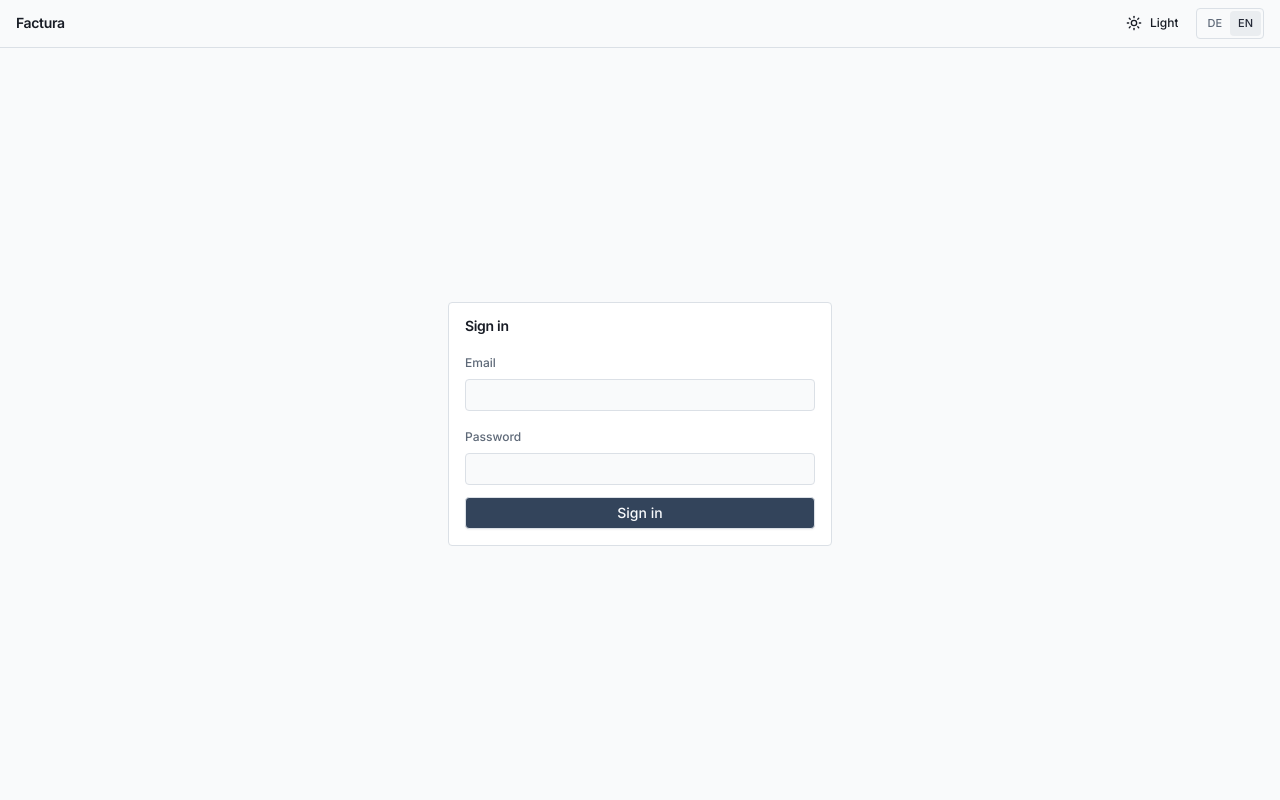
Test case: LoginPage › MFA step: 6-digit input, recovery toggle, 429 countdown
Type "a@b.c" into the field labelled "Email" at (640, 395), box [465,379,815,411]
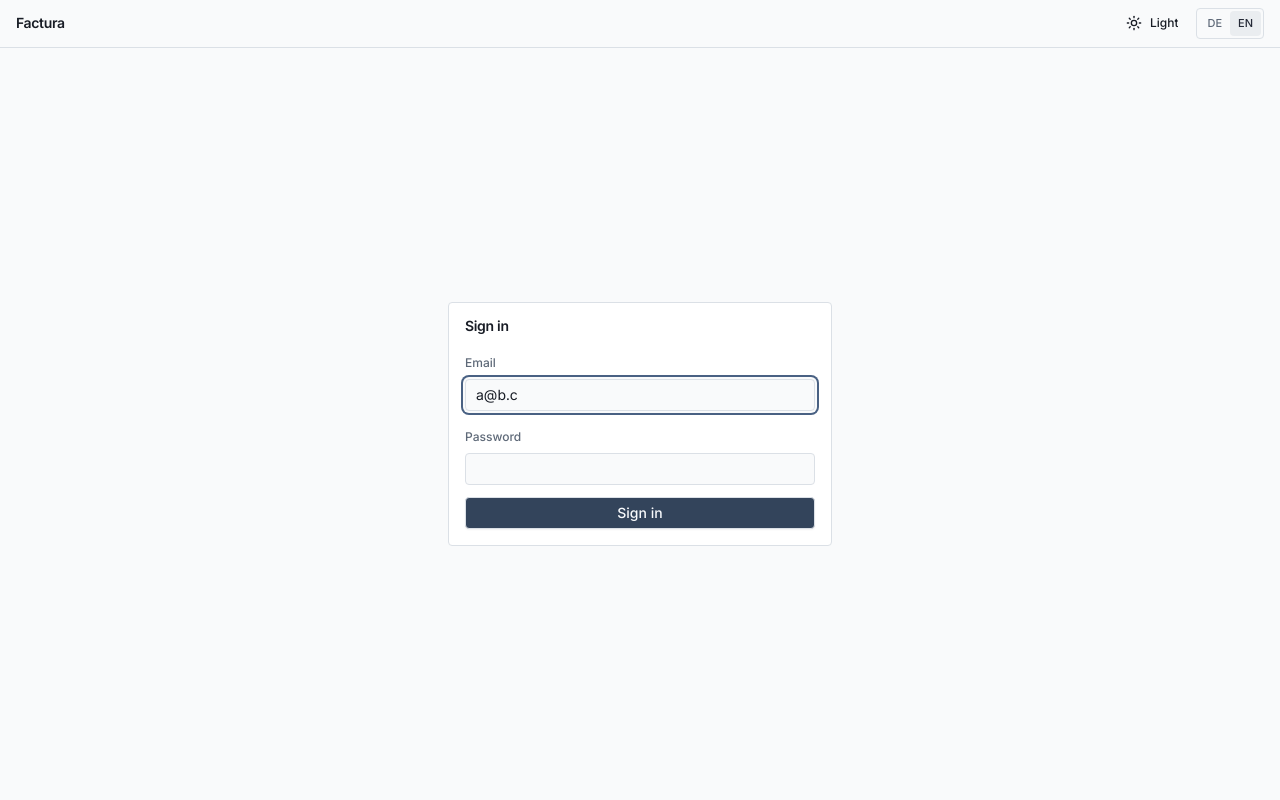
Type "password12" into the password field labelled "Password" at (640, 469), box [465,453,815,485]
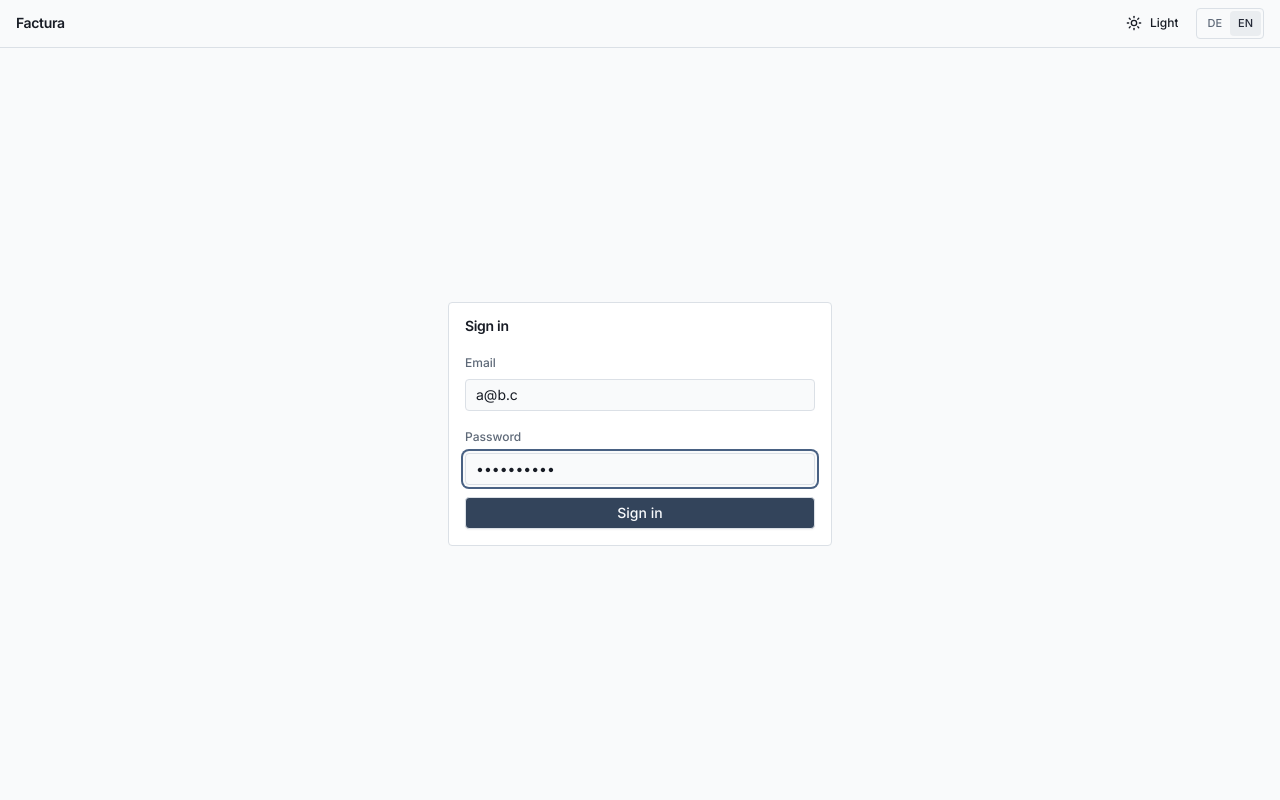
Click the button "Sign in" at (640, 513), box [465,497,815,529]
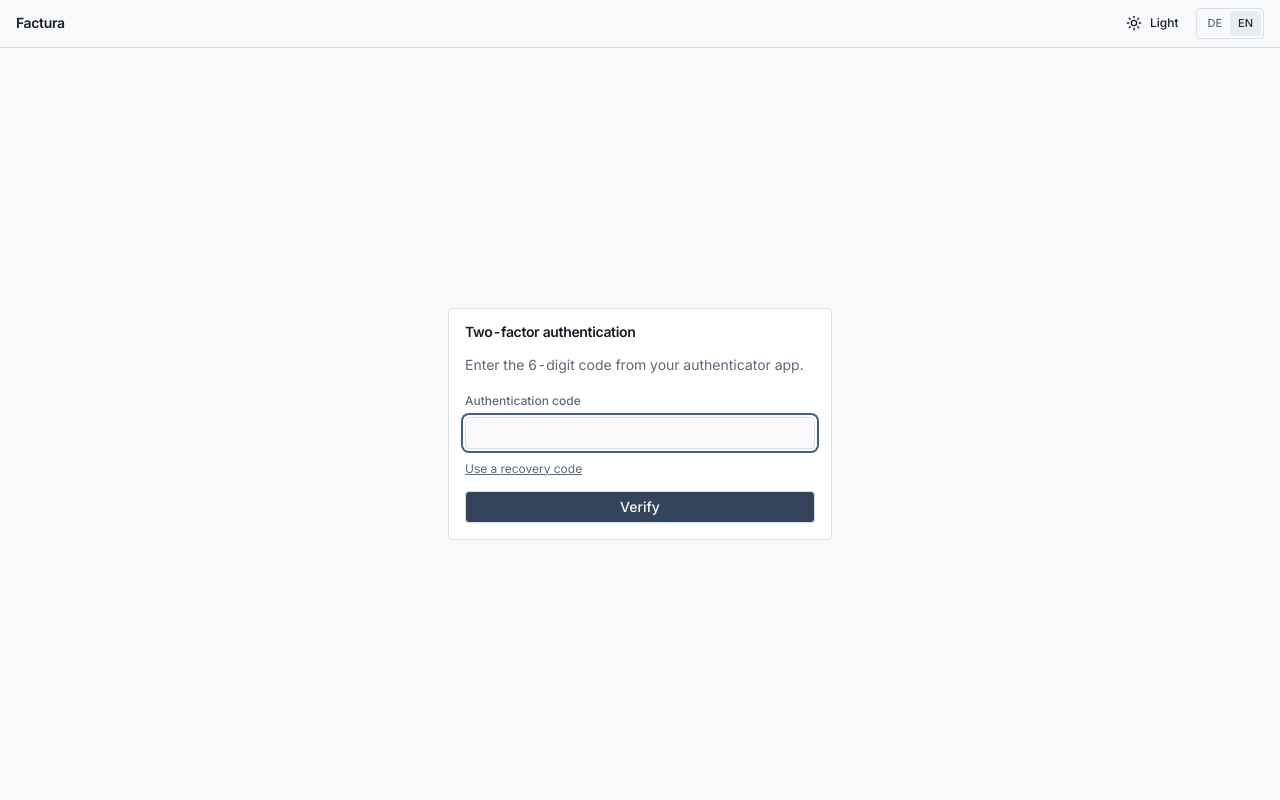
Result: the field with test id "mfa-code" is shown at [465,417,815,449]
Click the button "Use a recovery code" at (524, 469), box [465,461,582,477]
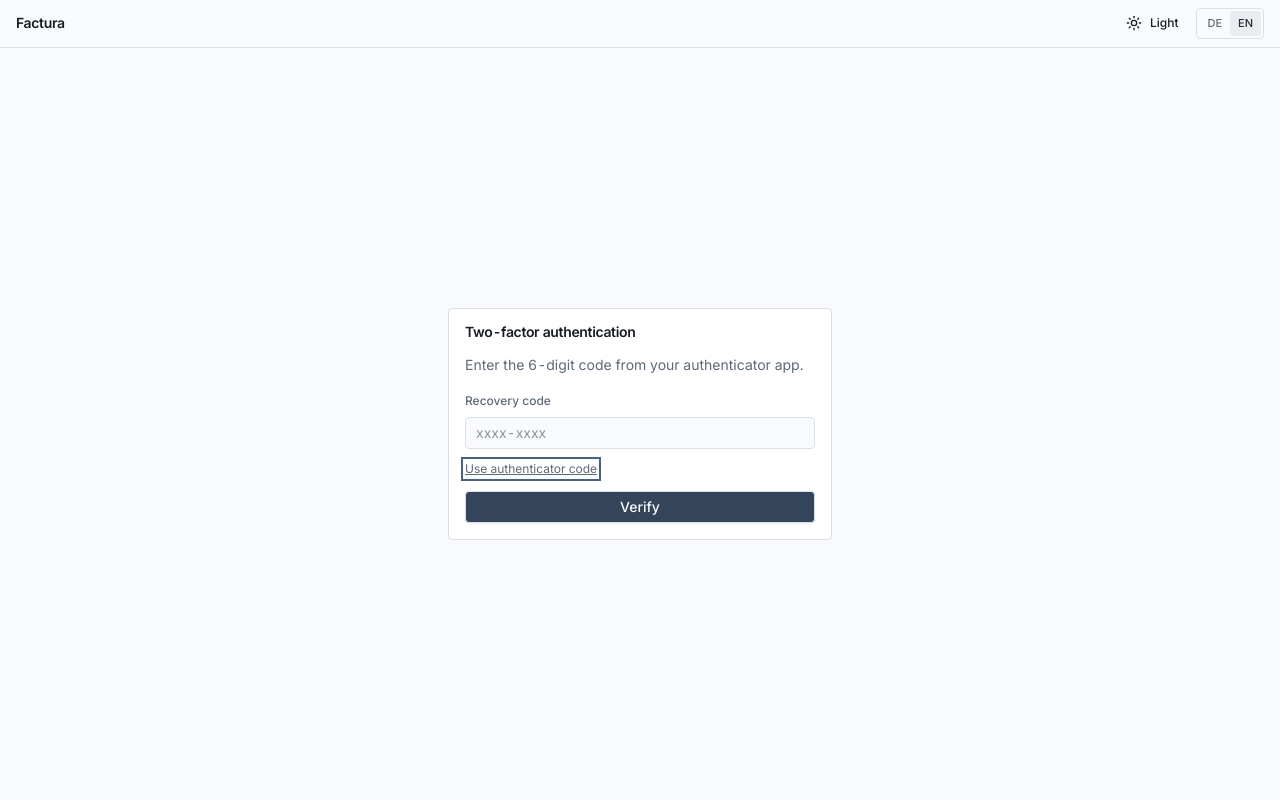
Result: the field with test id "mfa-recovery" is shown
Type "abcd-efgh" into the field with test id "mfa-recovery" at (640, 433), box [465,417,815,449]
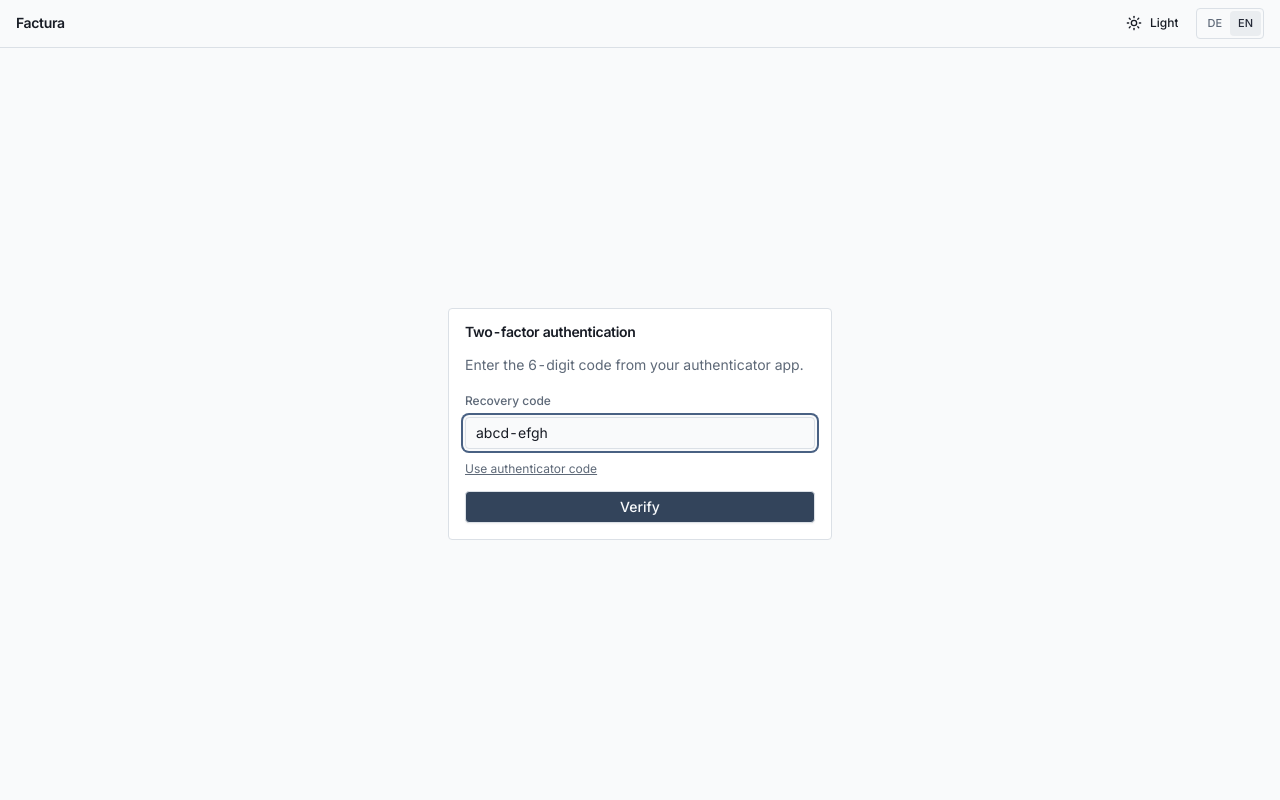
Click the button "Verify" at (640, 507), box [465,491,815,523]
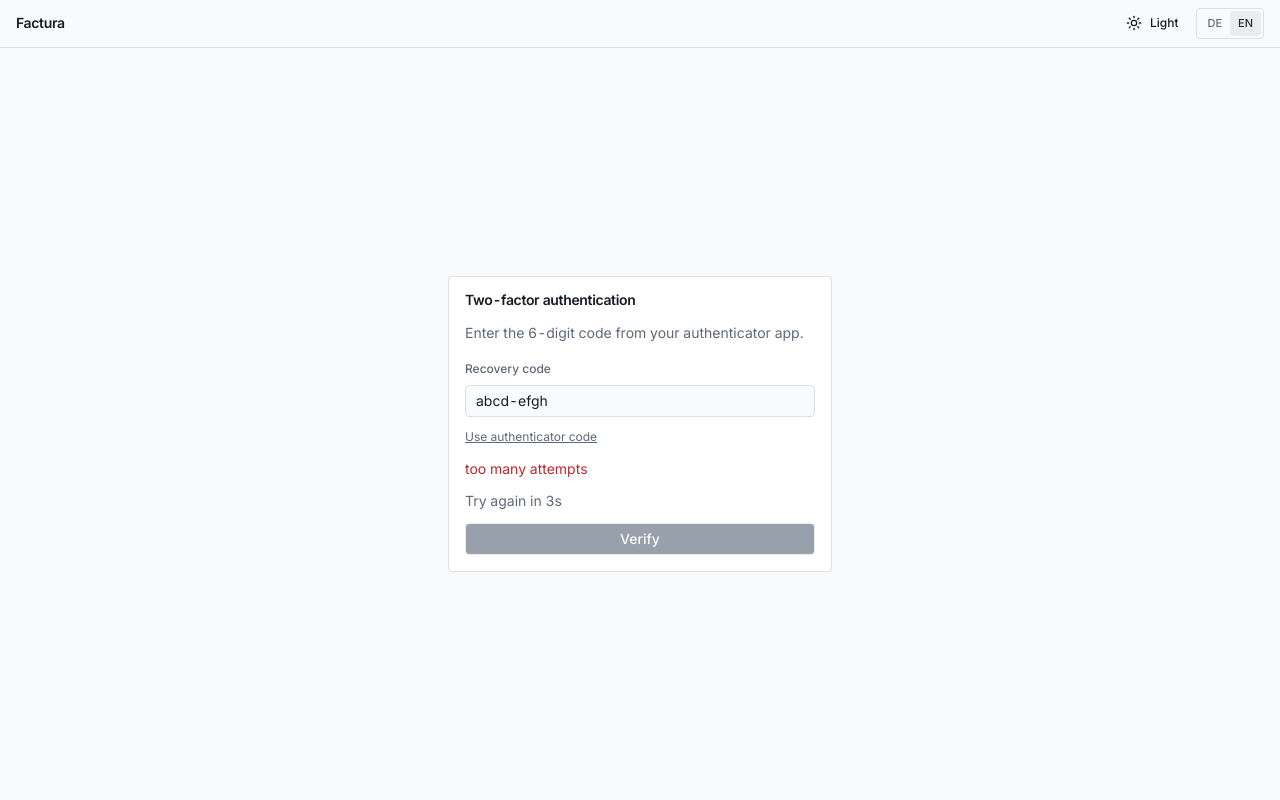
Result: the text "Try again in 3s" is shown at [465,492,562,509]
